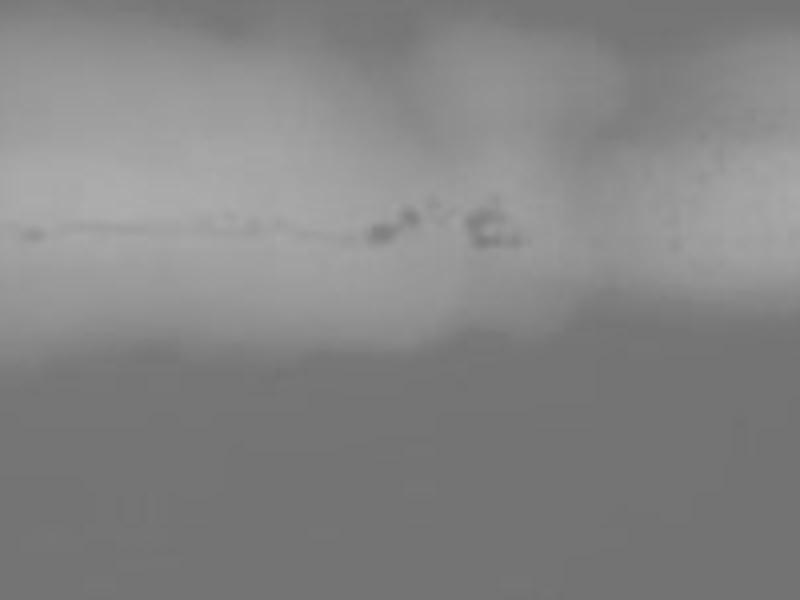defect: (464, 204, 520, 247), (423, 192, 456, 227), (367, 220, 396, 247), (18, 224, 51, 243), (396, 203, 419, 229), (240, 214, 264, 236)
